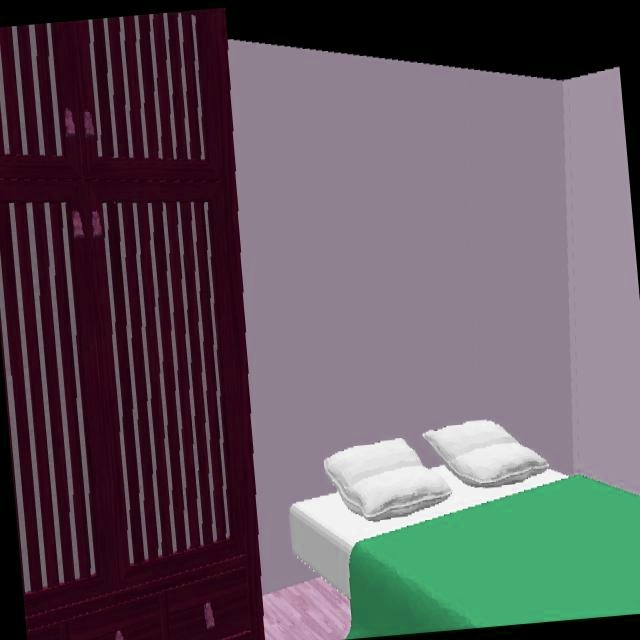bed: (289, 421, 640, 639)
pillow: (323, 438, 452, 522), (422, 419, 549, 487)
wardrobe: (0, 7, 264, 640)
